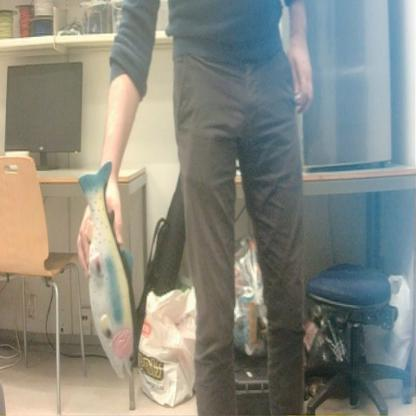rubberfish: (75, 160, 140, 380)
